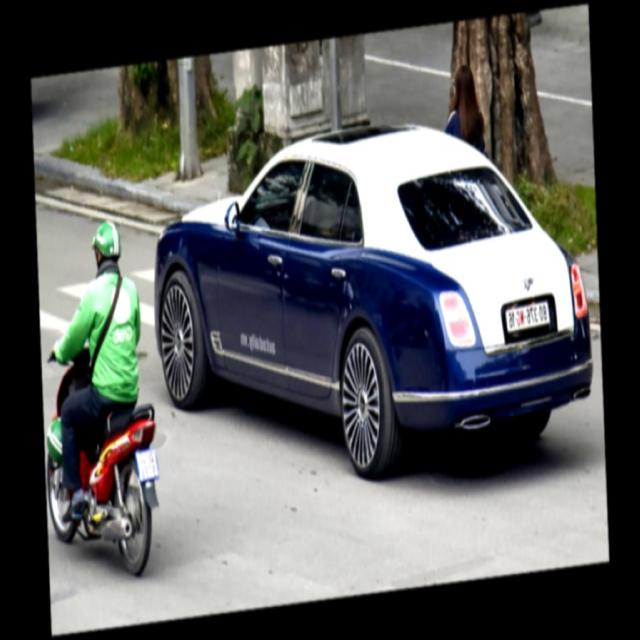bien_ngoai_giao: (503, 296, 552, 336)
